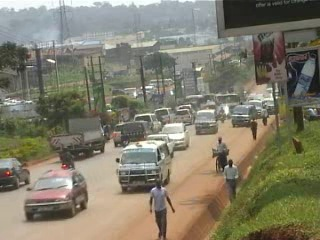Car: (21, 165, 90, 222), (0, 155, 32, 190), (158, 120, 194, 151), (112, 120, 127, 149), (175, 107, 193, 126), (217, 102, 232, 120), (200, 98, 217, 112)
Motorcycle: (56, 149, 79, 172), (218, 106, 228, 124)
